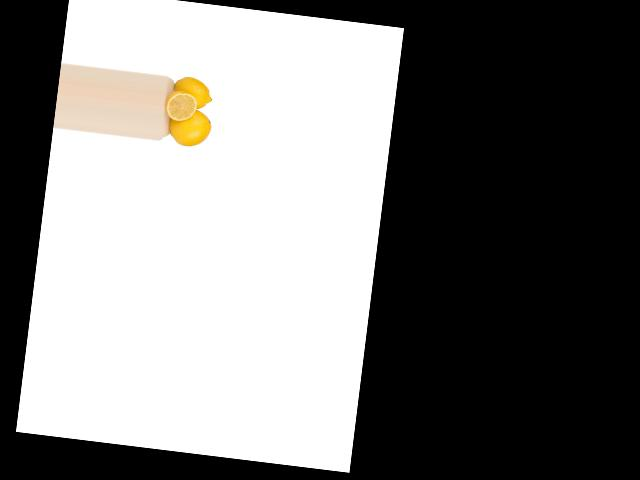lemon: (167, 72, 215, 110)
